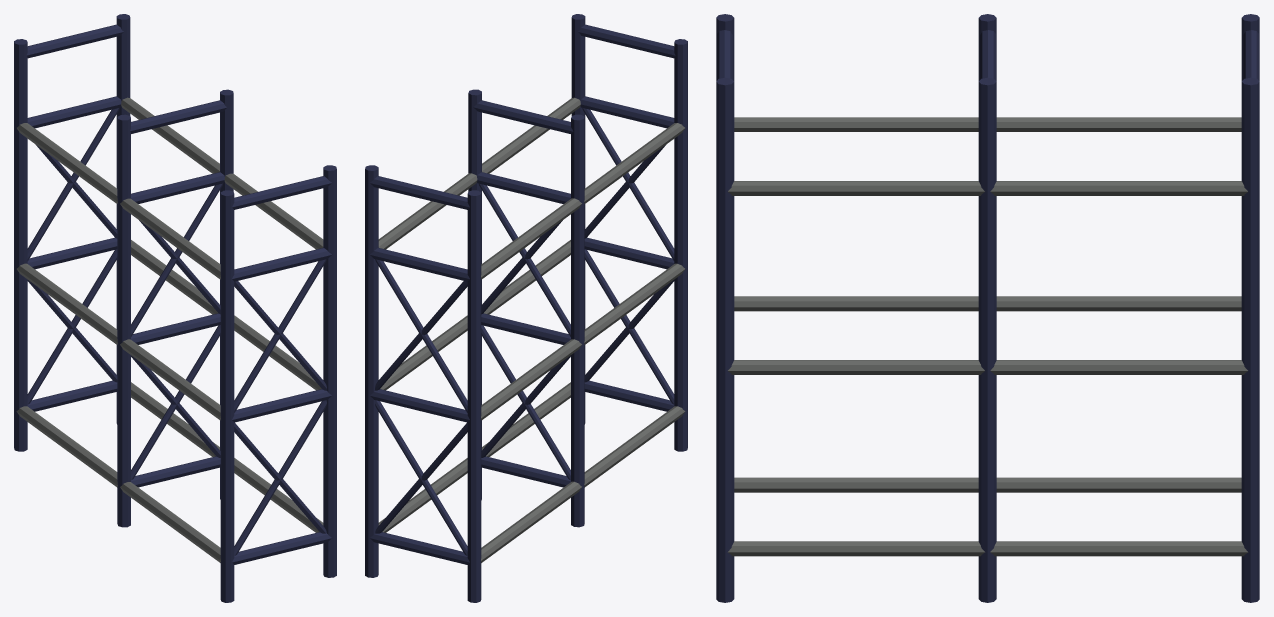
File: SM_TyreRacking_01.glb
3 renders of one model, left to right at view 1: azimuth 30°, elevation 25°; view 2: azimuth 150°, elevation 25°; view 3: azimuth 270°, elevation 25°, orthographic. The views are drawn at different scales.
Parts seen in each view (by area): view 1: SM_TyreRacking_01; view 2: SM_TyreRacking_01; view 3: SM_TyreRacking_01.
Boxes of the visible parts, x1,y1,x2,y2 form: SM_TyreRacking_01: [14, 14, 336, 602]; SM_TyreRacking_01: [365, 14, 687, 602]; SM_TyreRacking_01: [716, 14, 1259, 602].
Size of the model in its own units: 0.6148 by 2.08 by 1.98.
Materials: 1 (1 with a texture image).
